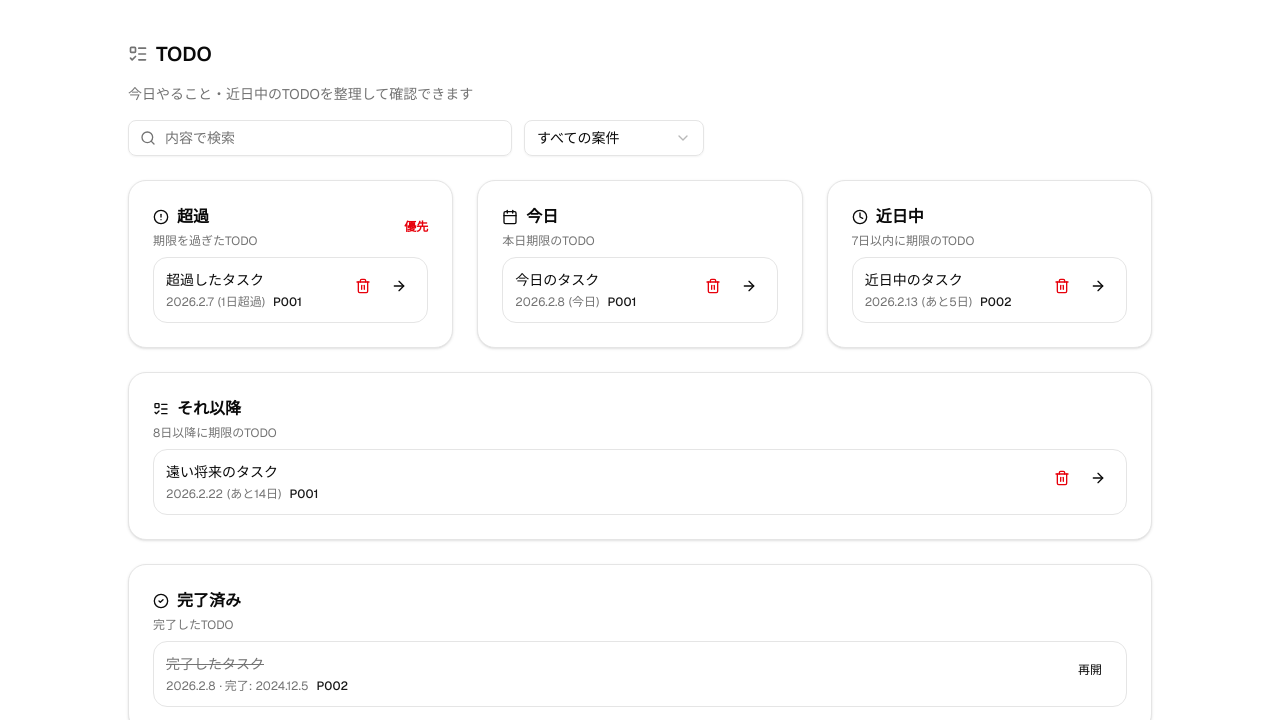
TodosView › 削除機能 › 削除ボタンをクリックすると確認ダイアログが開く
This screenshot has width=1280, height=720.
Click the button without text in the row of "超過したタスク": coordinates (363, 286) [347, 270, 379, 302]
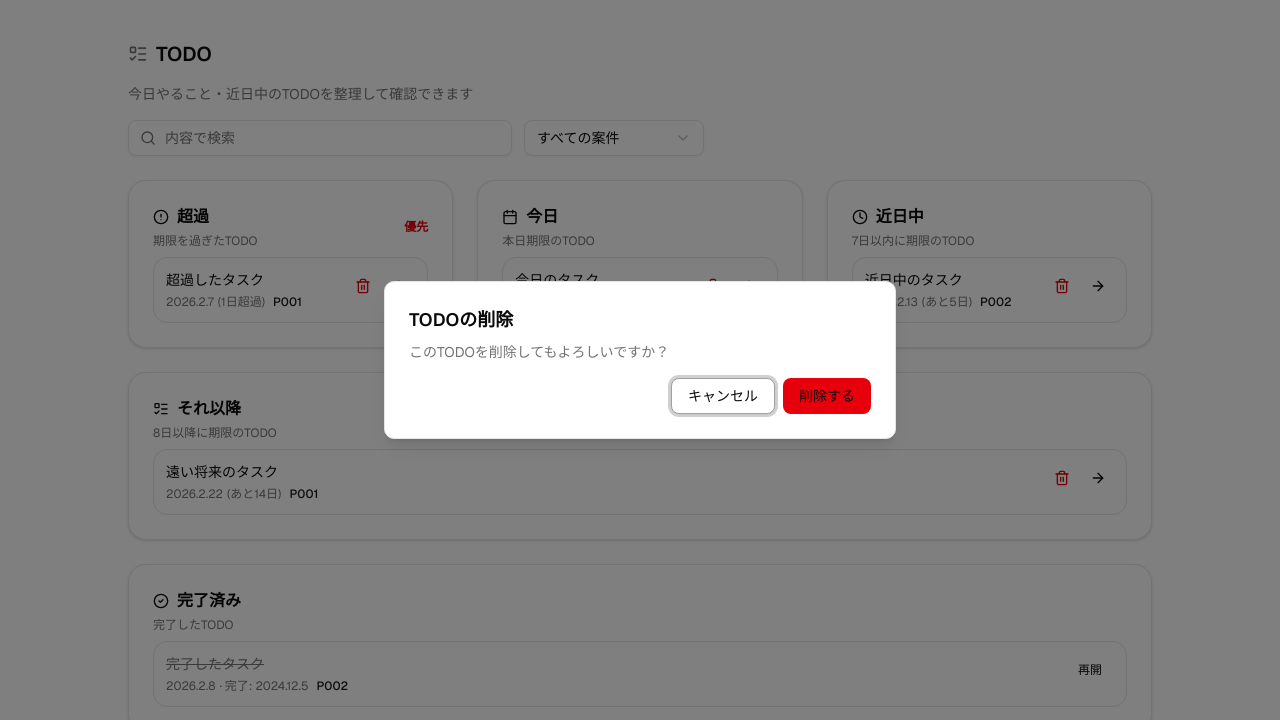
Check: the heading "TODOの削除" is shown, box [409, 308, 513, 331]
